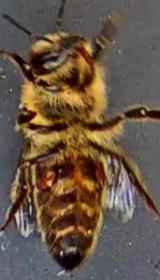varroa_mite: (32, 158, 72, 194)
